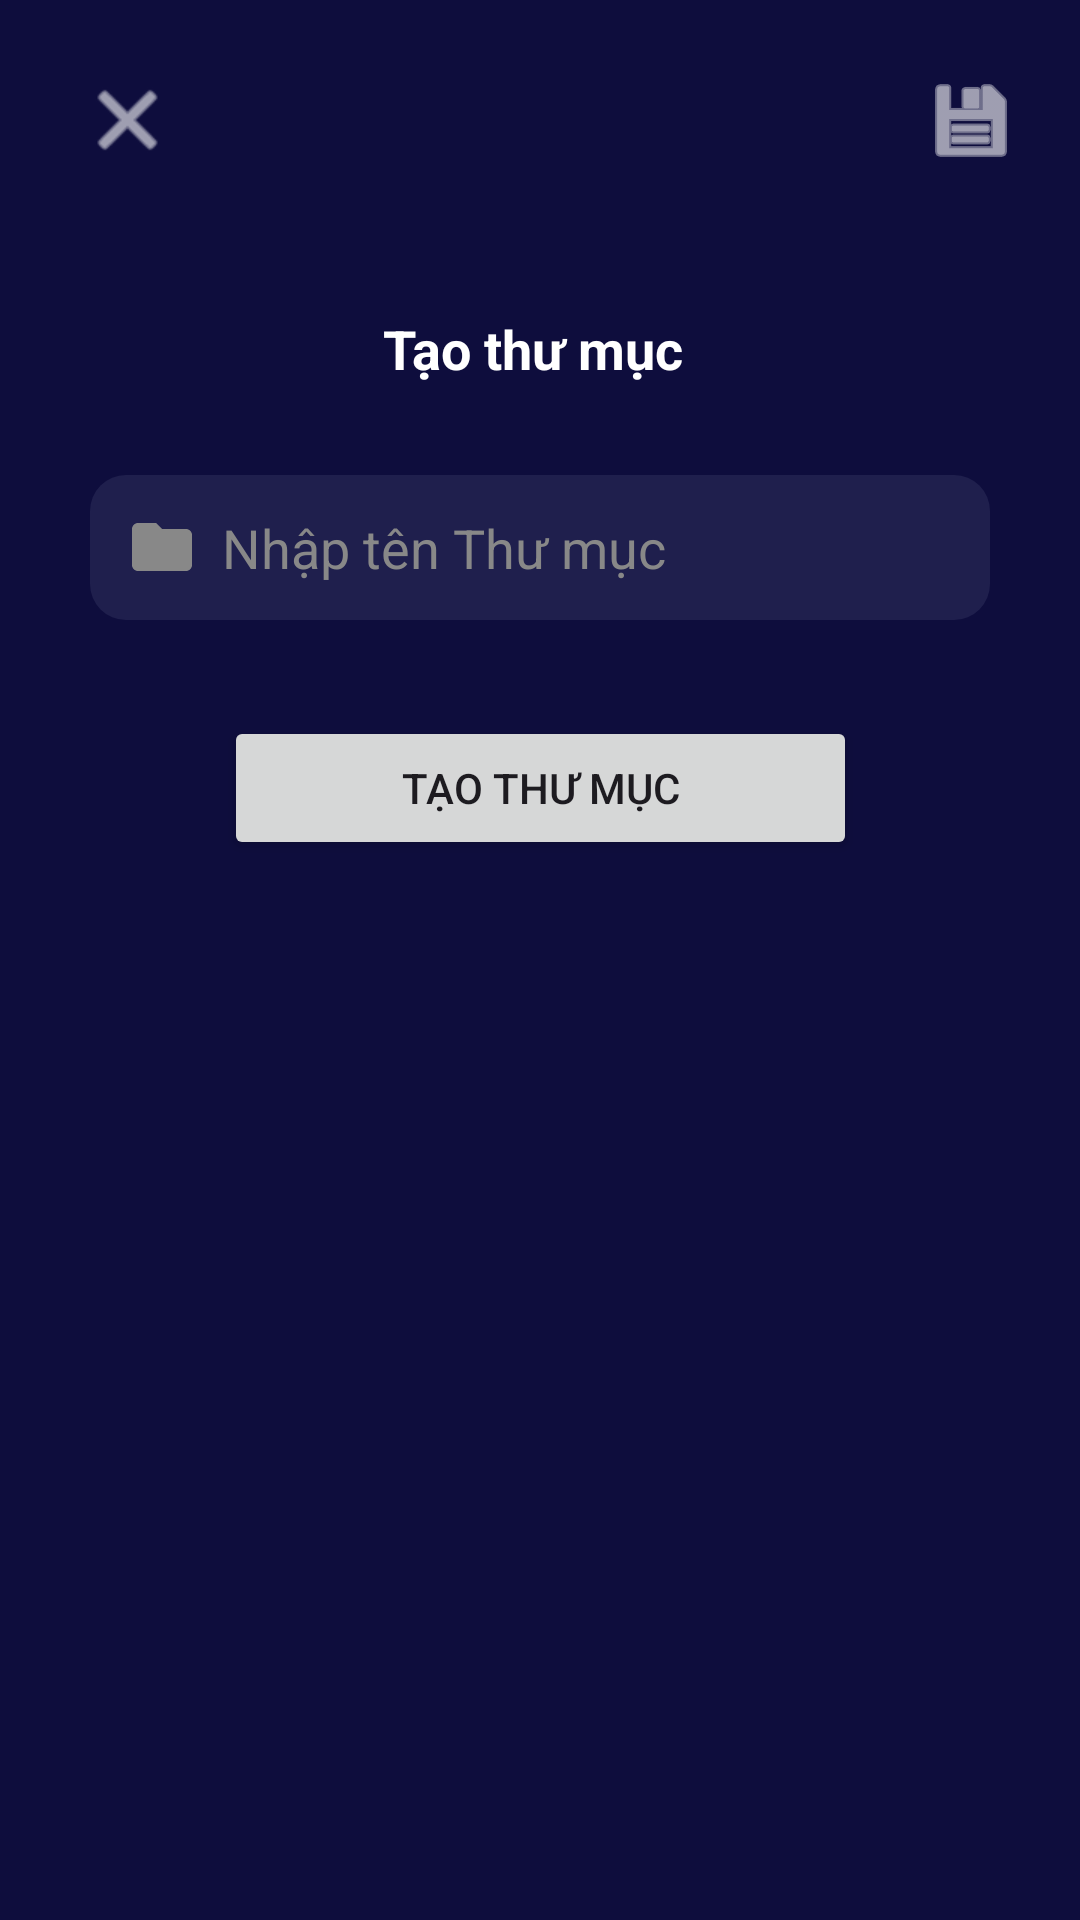

Screen size 1080*1920. Icon name, then its center in pixels as (x=x, y=y):
close clear cancel: (x=127, y=120)
save: (x=971, y=120)
